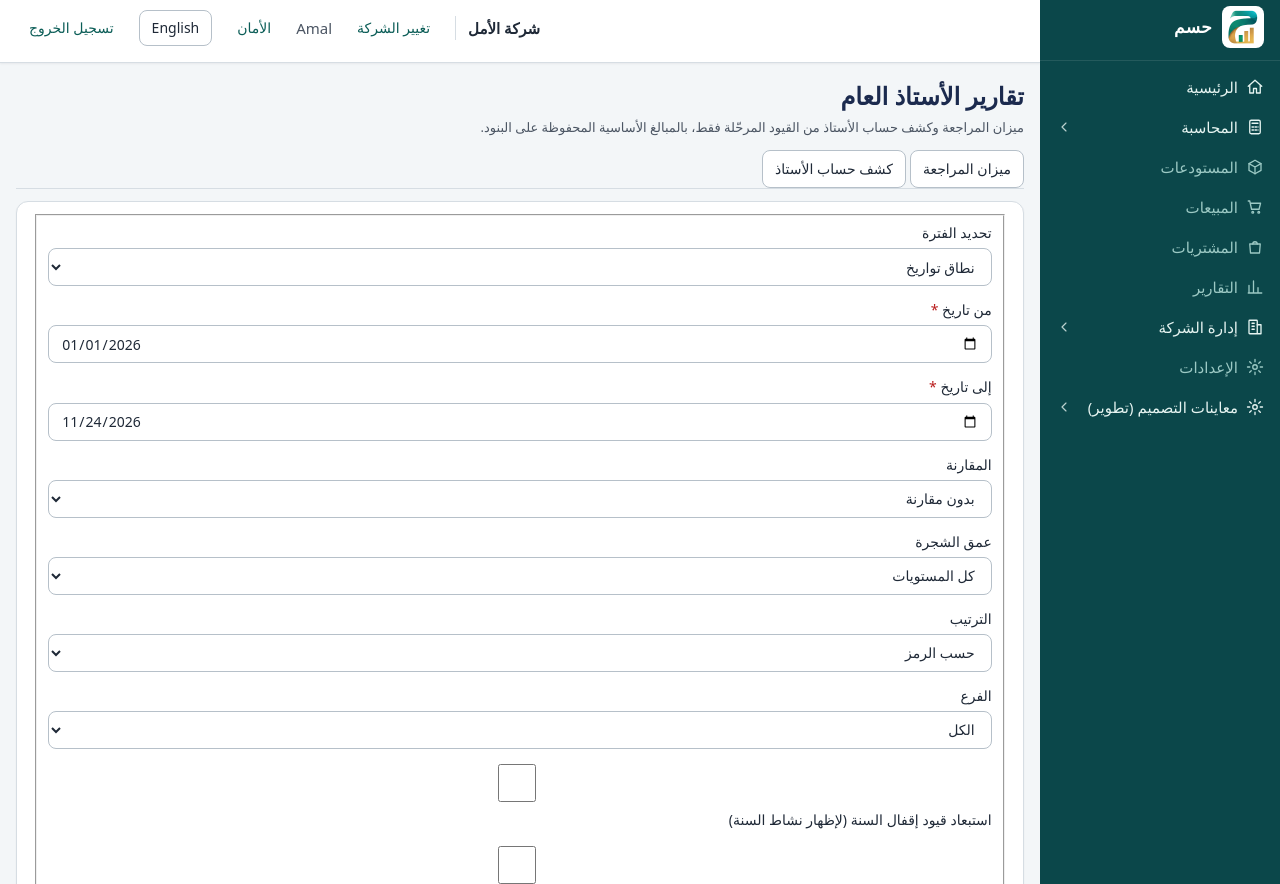
ledger reports: period, comparison, columns, exports, reconciliation and drill-down › selects a fiscal year and asks for the previous year, then shows the comparative columns and the change
expect the element with test id "company-name" is shown: met, box [455,16,540,40]
Select "سنة مالية" in the dropdown labelled "تحديد الفترة" at coordinates (520, 267), box [48,248,992,286]
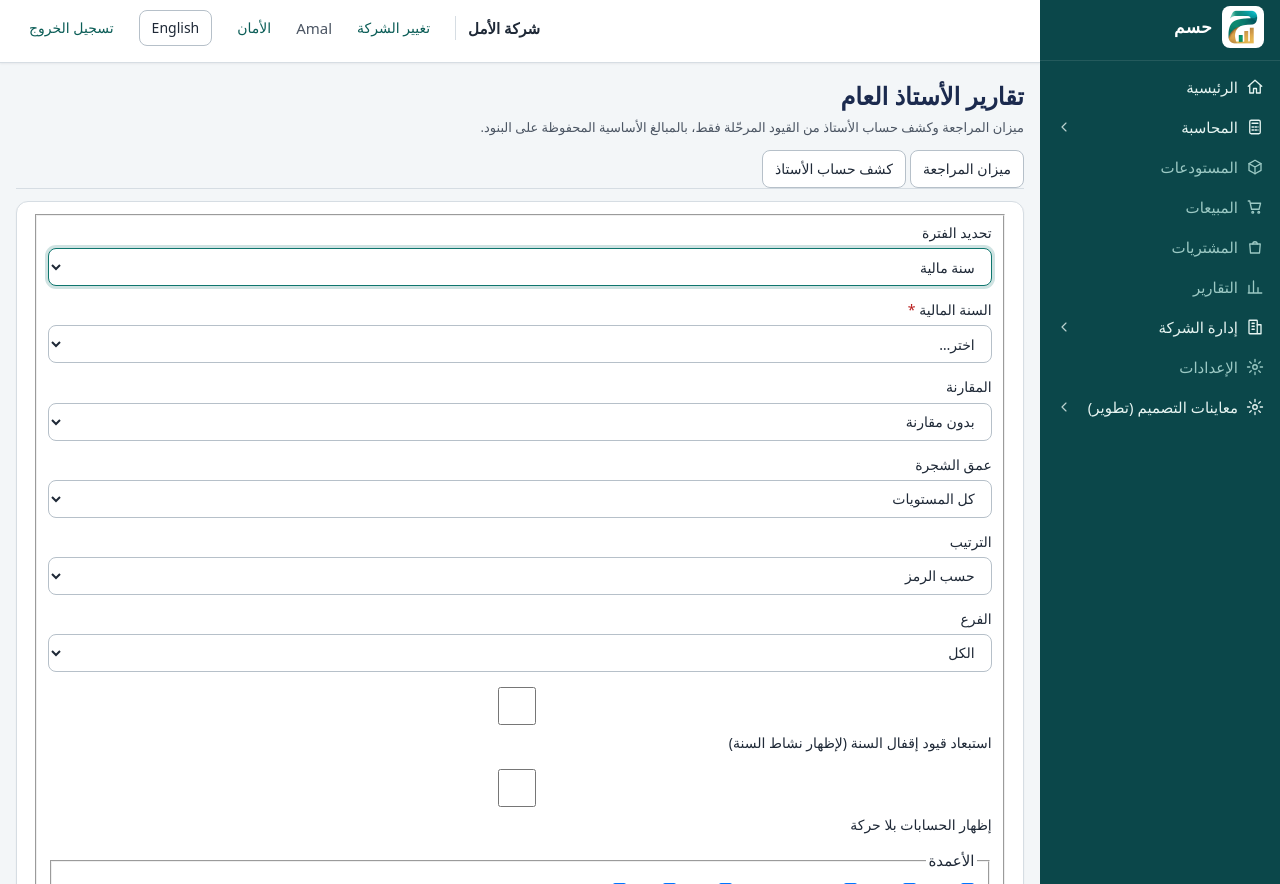
Select "FY2026 (2026-01-01 .. 2026-12-31)" in the dropdown labelled "السنة المالية *" at coordinates (520, 344), box [48,326,992,364]
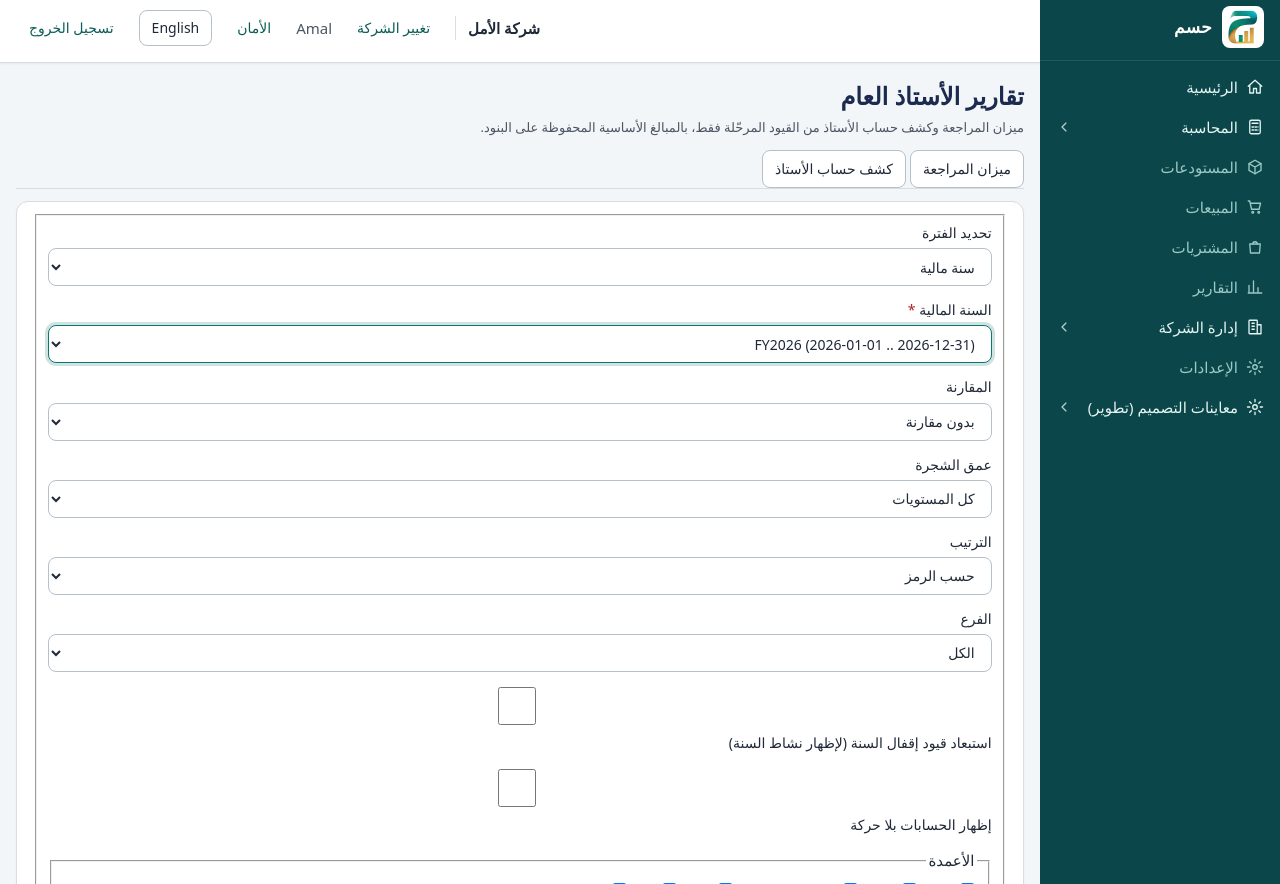
Select "السنة السابقة" in the dropdown labelled "المقارنة" at coordinates (520, 422), box [48,403,992,441]
(page scrolled)
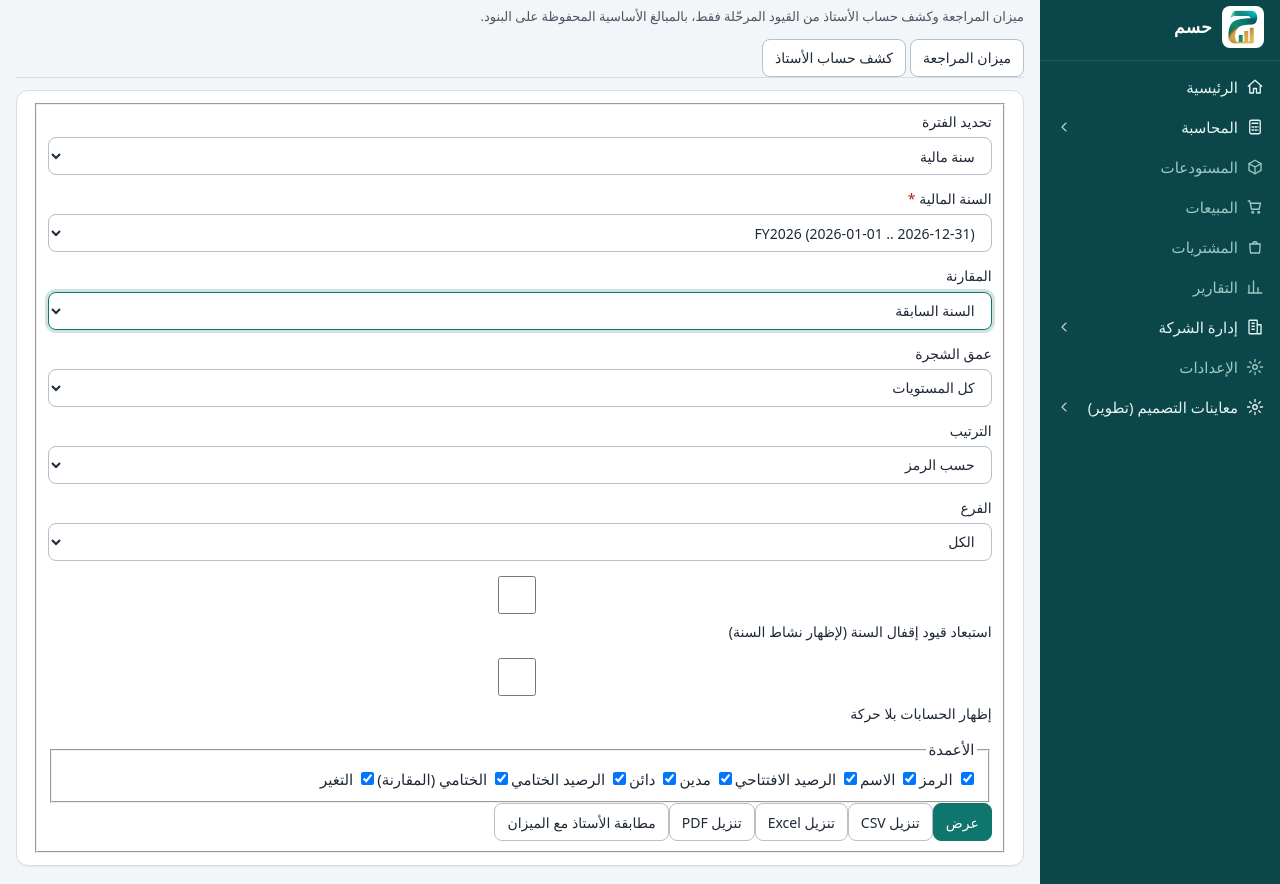
Click the button "عرض".
click(962, 822)  # box [933,803,992,841]
(page scrolled)
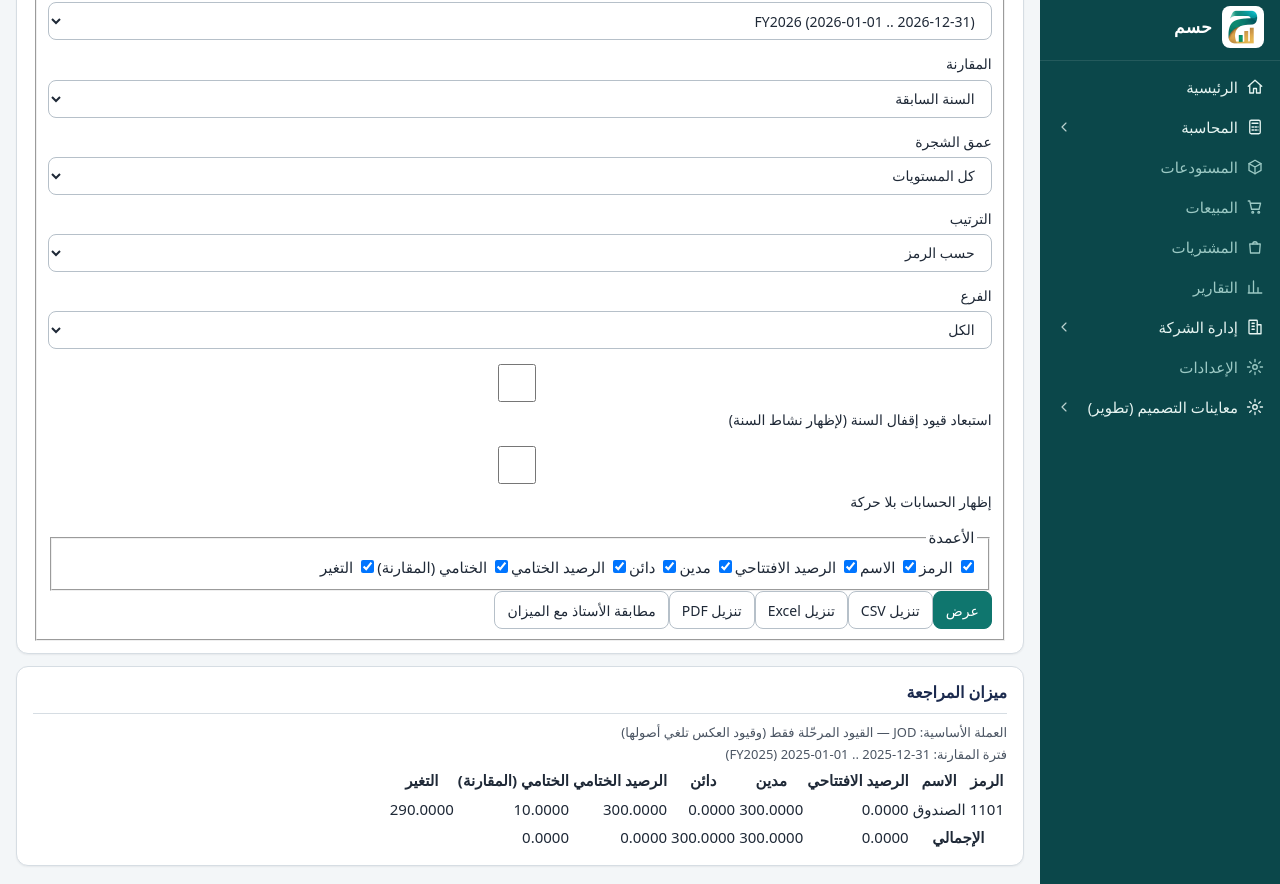
expect the row with test id "rep-tb-1101" shows "300.0000": met, box [739,799,803,819]
expect the row with test id "rep-tb-1101" shows "10.0000": met, box [514,799,569,819]
expect the row with test id "rep-tb-1101" shows "290.0000": met, box [390,799,454,819]
